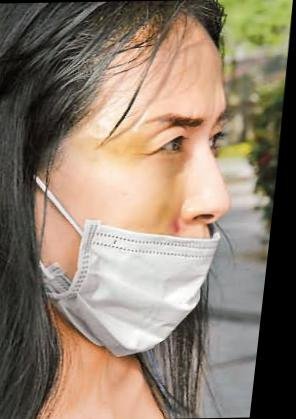WRONG: (38, 66, 251, 344)
